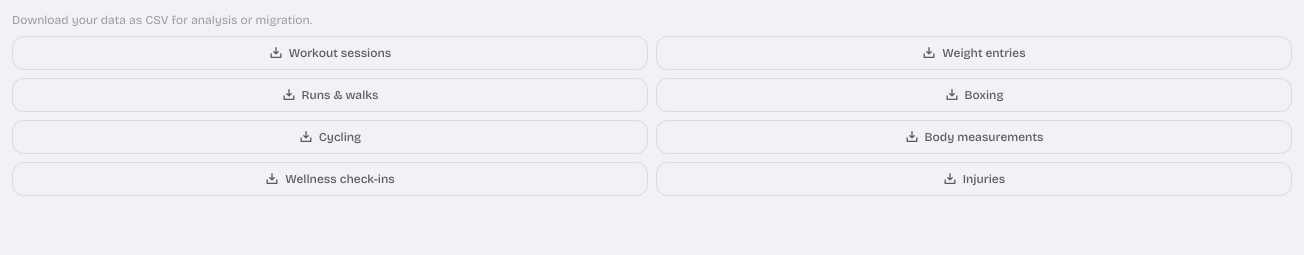
Test: ExportSection › downloads a CSV on click and shows a success message
The width and height of the screenshot is (1304, 255).
Click the button with aria-label "Export Weight entries" at (974, 53), box x1=656 y1=36 x2=1292 y2=70
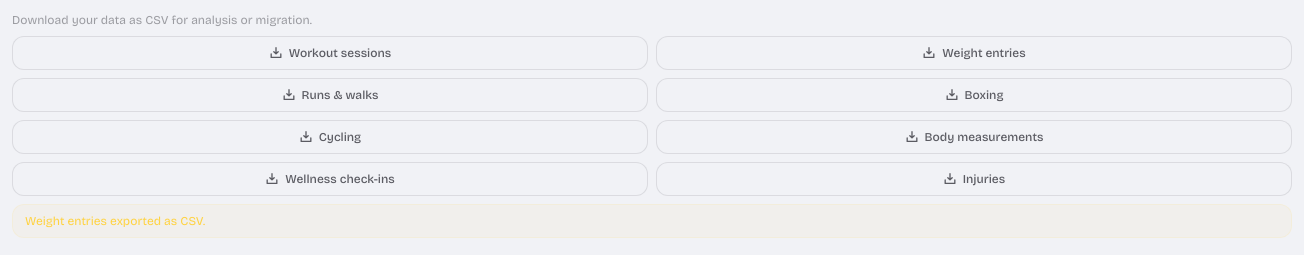
Expected: the text "Weight entries exported as CSV." is shown, x1=12 y1=204 x2=1292 y2=238
